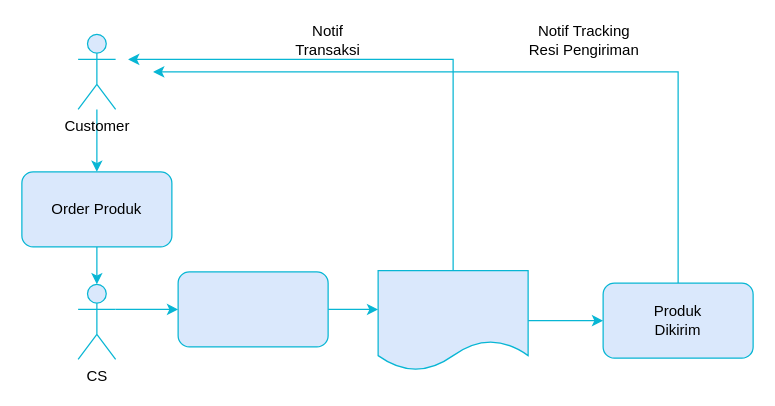
The diagram is 775 pixels wide and 406 high, and some of its shapes have lost their labels. Here are the shapes that lost their labels. From the top down, the box of each, then its label:
(177, 271, 328, 347): Input Order
(377, 269, 528, 371): Order diproses
